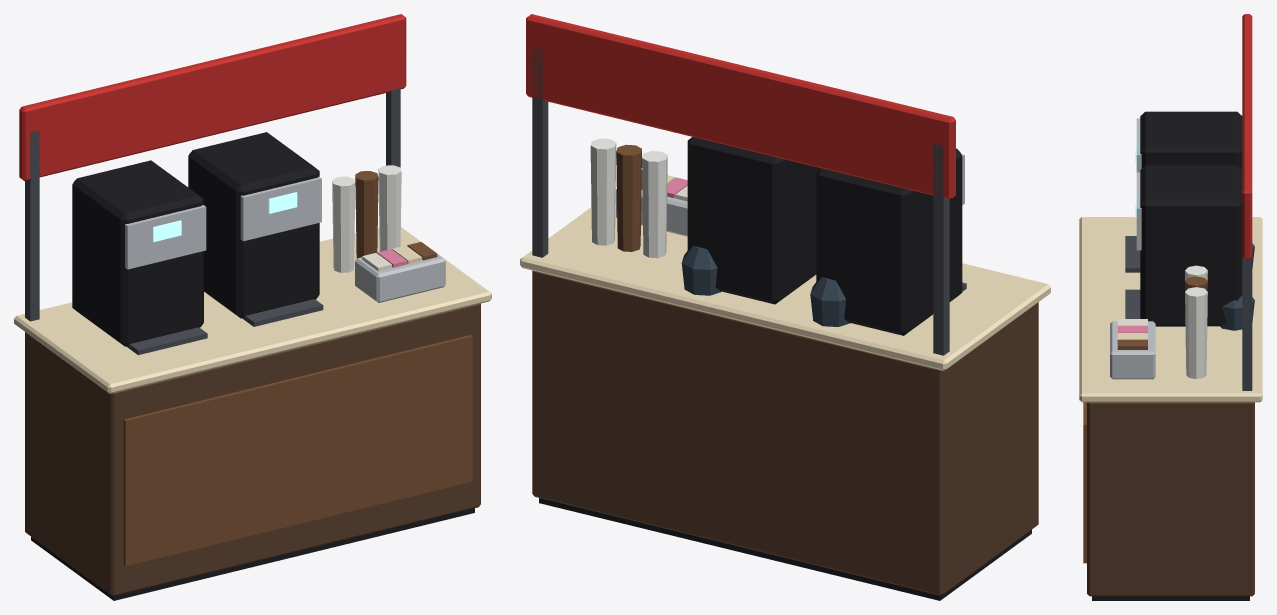
Rendered from Coffee_Island_Self_Serve.glb.
3 renders of one model, left to right at view 1: azimuth 30°, elevation 25°; view 2: azimuth 150°, elevation 25°; view 3: azimuth 270°, elevation 25°, orthographic. The views are drawn at different scales.
Visible parts, largest first — view 1: Coffee_Island_Self_Serve; view 2: Coffee_Island_Self_Serve; view 3: Coffee_Island_Self_Serve.
Boxes of the visible parts, <box> form: Coffee_Island_Self_Serve: <box>14,14,491,600</box>; Coffee_Island_Self_Serve: <box>520,14,1050,600</box>; Coffee_Island_Self_Serve: <box>1079,14,1262,600</box>.
Size of the model in its own units: 1.66 by 1.8 by 0.72.
1 material, 1 textured.
